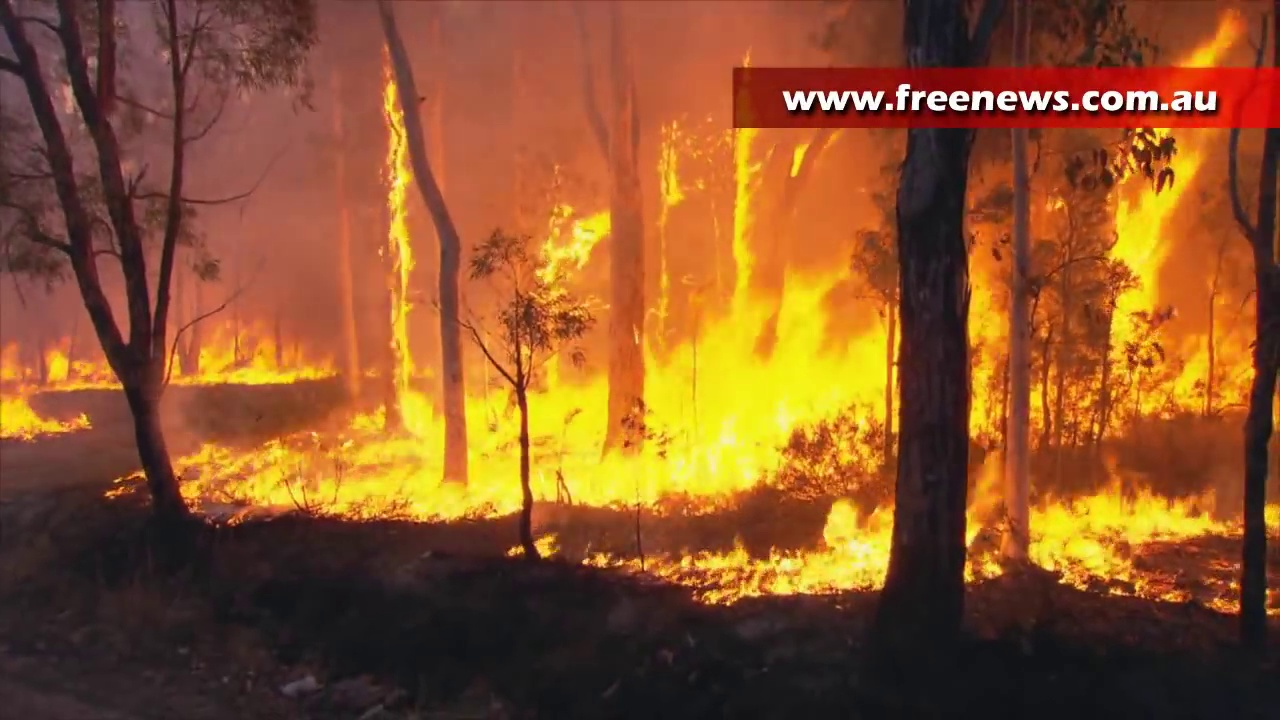fire: (178, 272, 900, 521), (584, 499, 893, 607), (1110, 134, 1204, 415), (1024, 482, 1222, 597), (382, 85, 410, 400), (168, 339, 305, 385), (970, 248, 1000, 443), (3, 343, 114, 390), (541, 206, 605, 267), (1, 394, 87, 437), (965, 505, 1006, 580), (736, 129, 750, 278), (665, 145, 678, 211), (534, 534, 554, 557)
